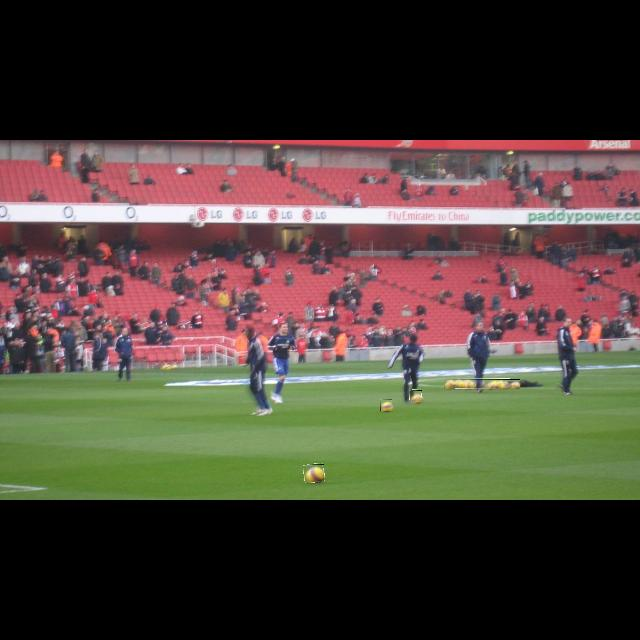Football: (444, 379, 520, 389), (304, 464, 324, 482), (380, 399, 392, 411), (410, 390, 422, 402)
